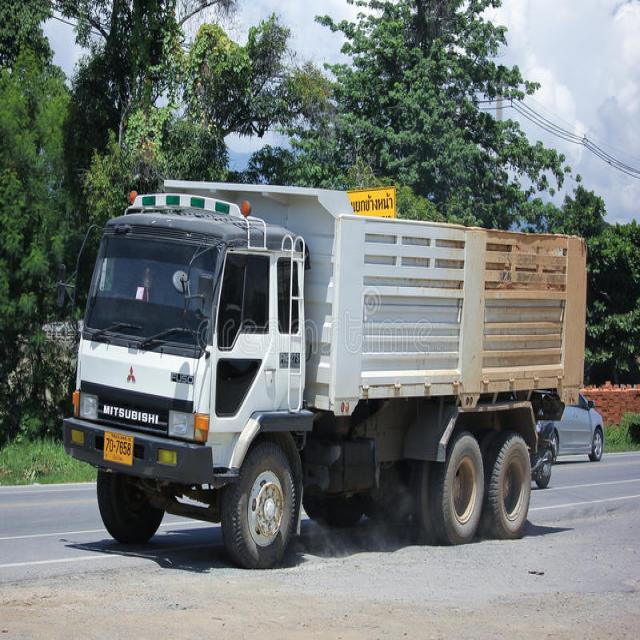truck: (59, 174, 584, 566)
